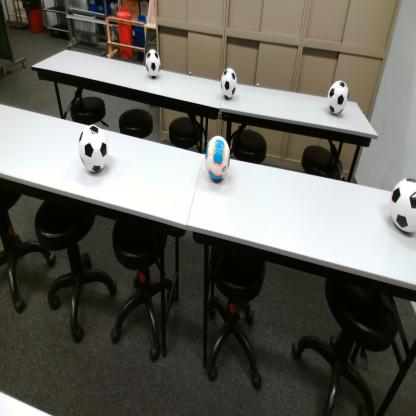ball: (78, 124, 109, 175), (390, 178, 416, 235), (204, 136, 230, 184), (328, 80, 349, 116), (220, 68, 237, 100), (145, 47, 161, 78)
